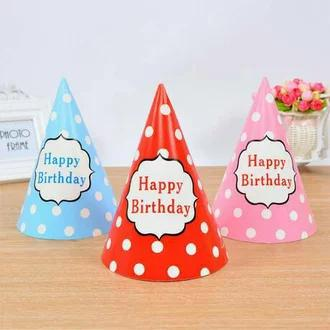cone: (101, 84, 229, 282), (211, 77, 317, 243), (16, 77, 119, 239)
